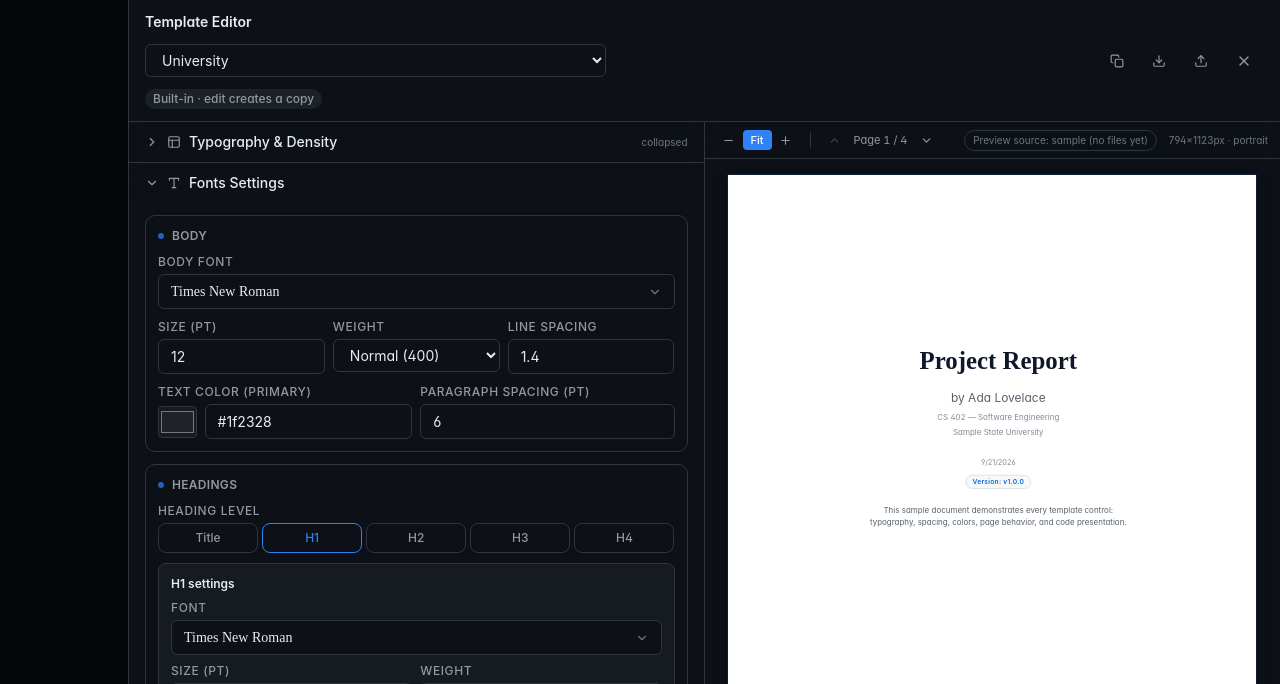
Scenario: editor structure (spec §2) › Document Density and Project Structure stay with the Template Editor (§17 styling split)
# Density is the (renamed) first section of the Template Editor.
Click the button "Typography & Density collapsed": (263, 142) [129,122,704,162]
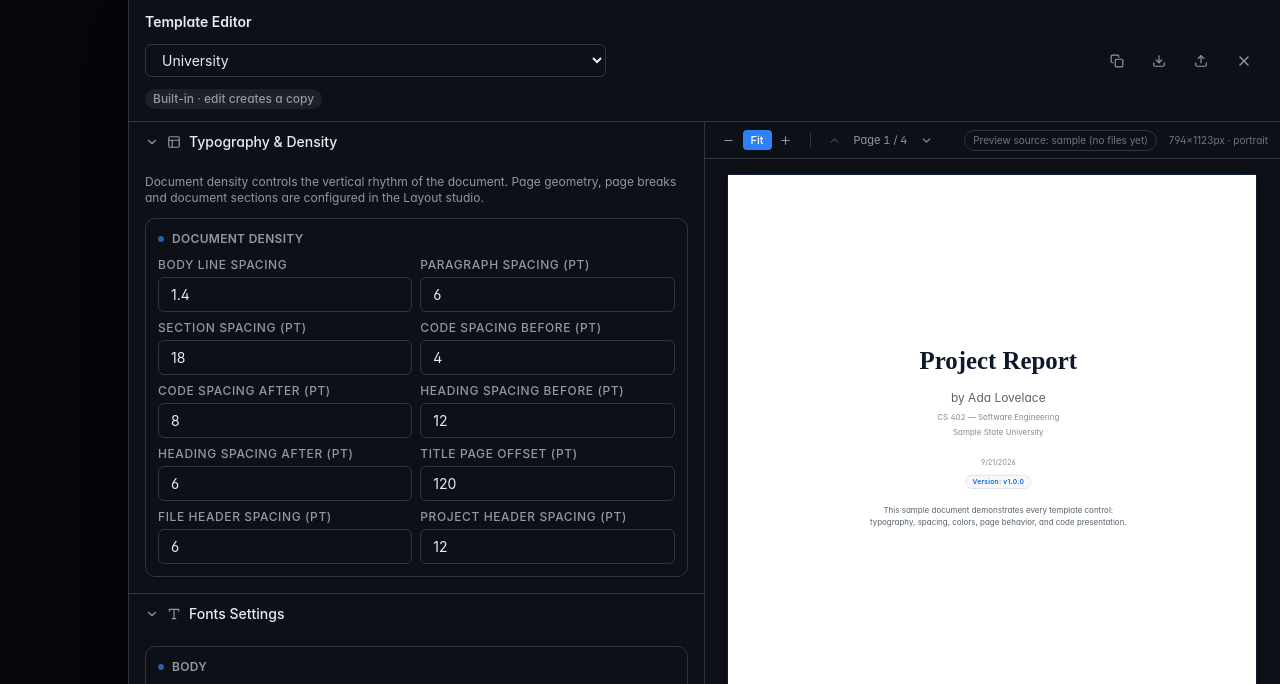
Expected: the text "Document Density" is shown, [172,231,304,247]
